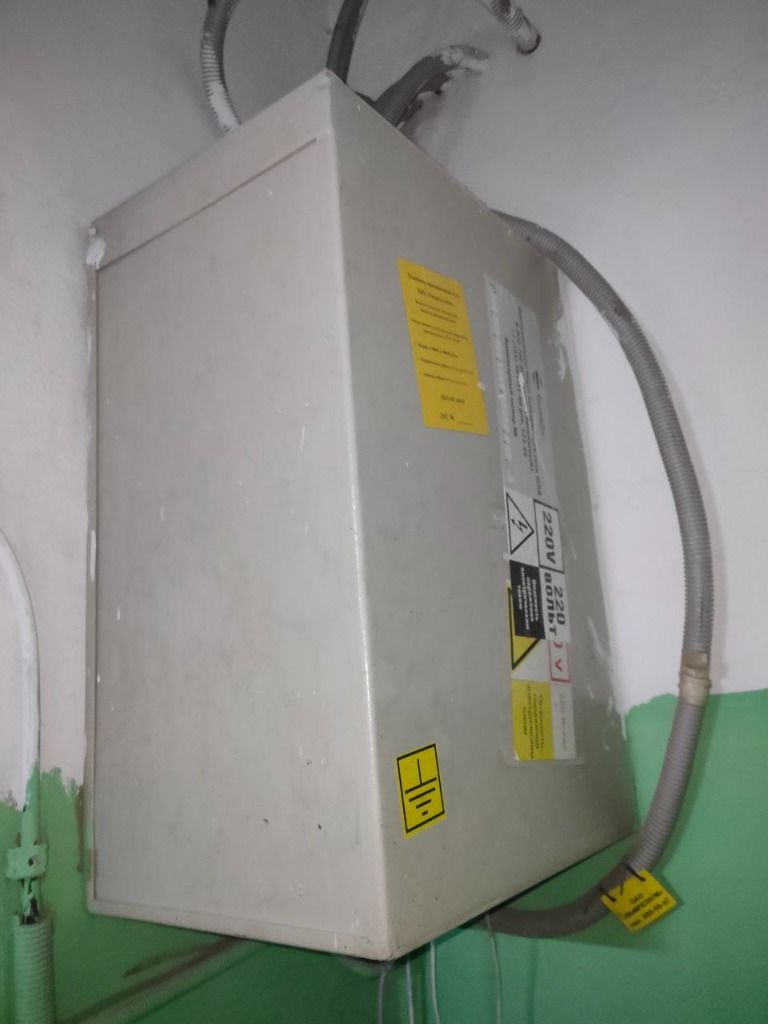sv-5: (81, 61, 649, 968)
